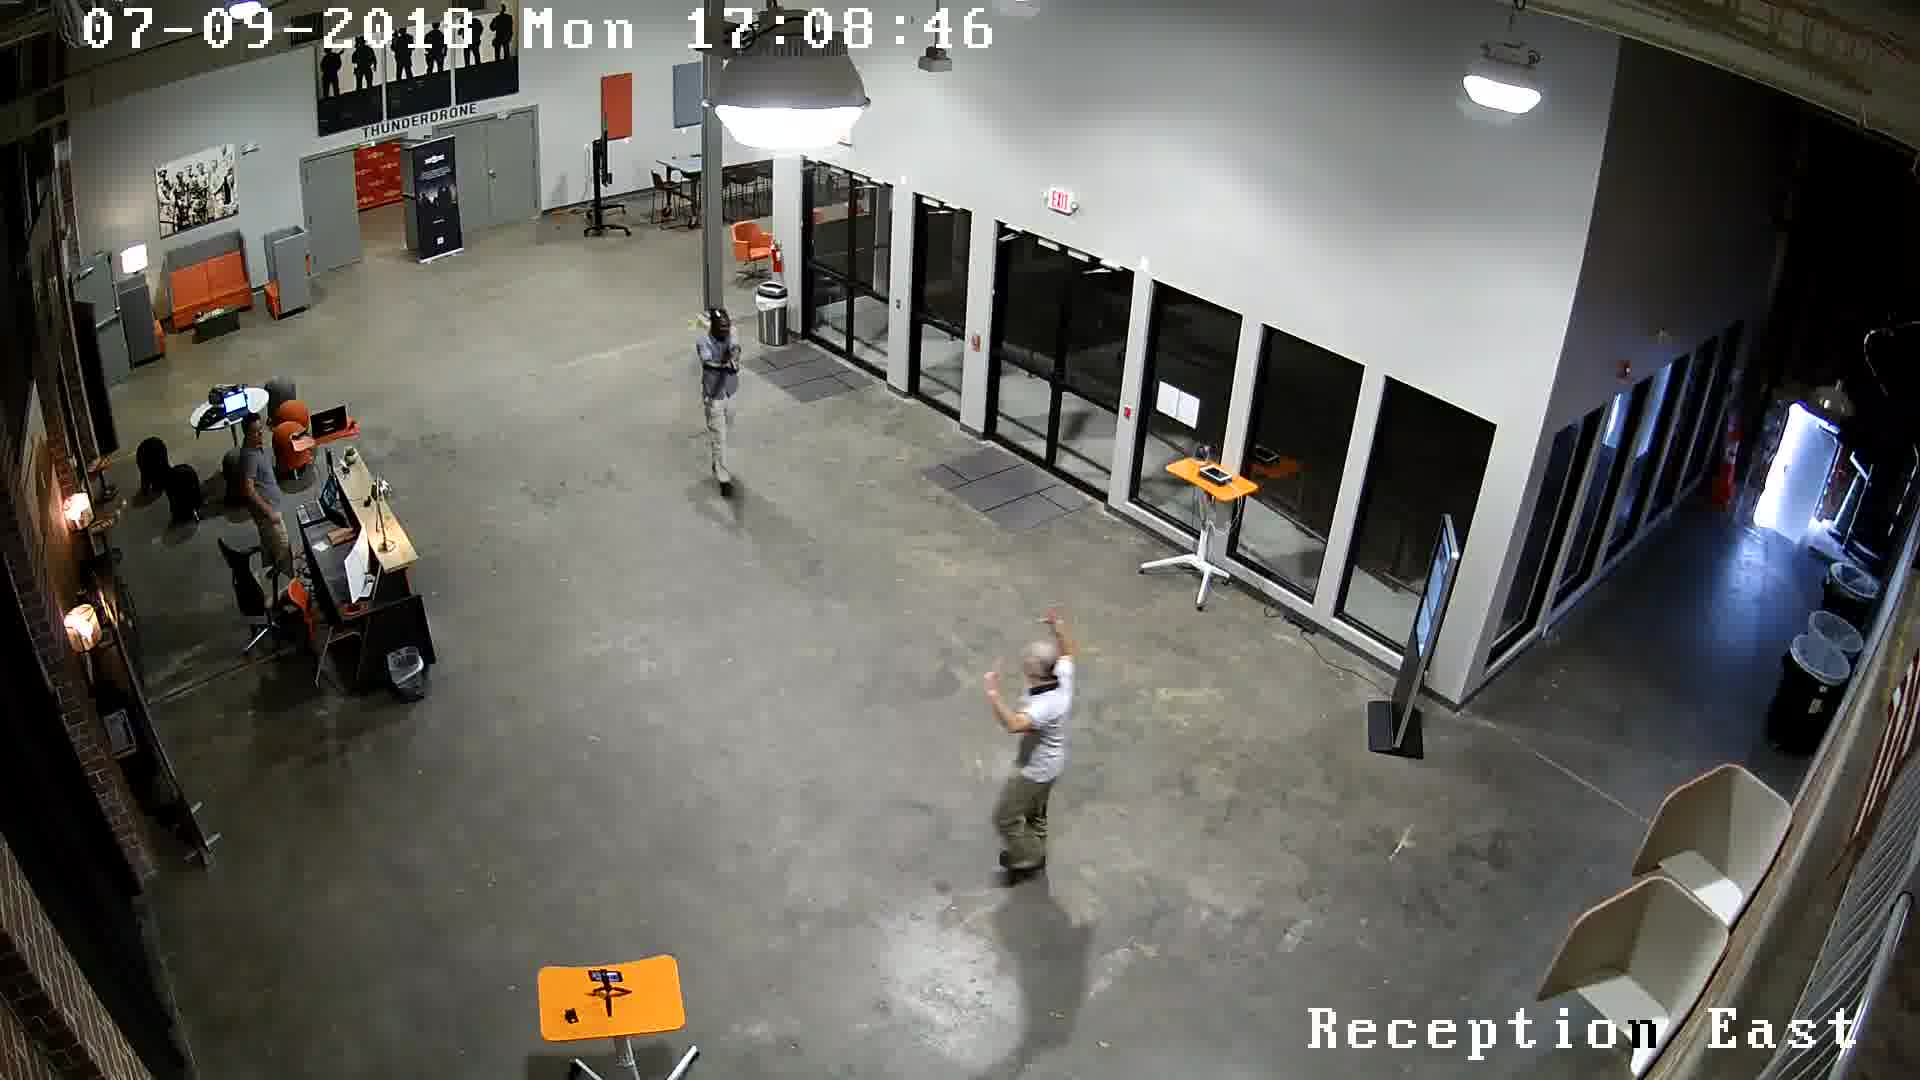pistol: (717, 349, 746, 390)
